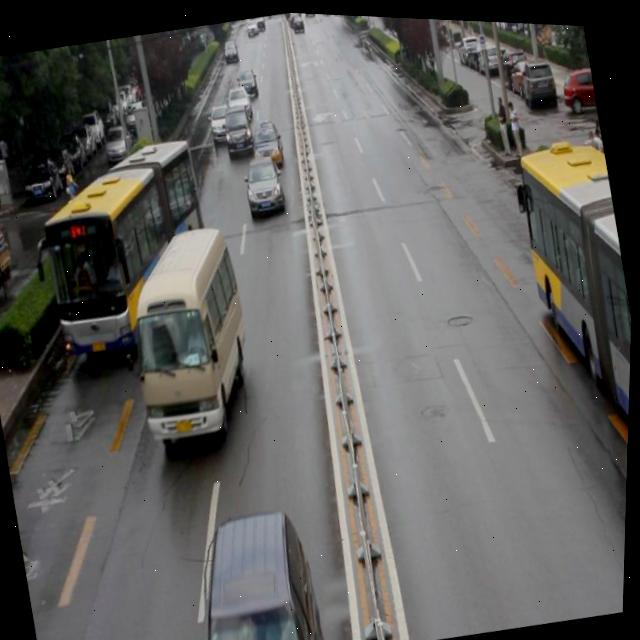car: (182, 500, 337, 640), (67, 180, 147, 256), (240, 149, 288, 214), (139, 142, 185, 202), (248, 114, 286, 170), (220, 100, 257, 157), (206, 99, 239, 145)
truck: (119, 218, 269, 450)
van: (503, 137, 637, 505), (24, 134, 233, 369)
